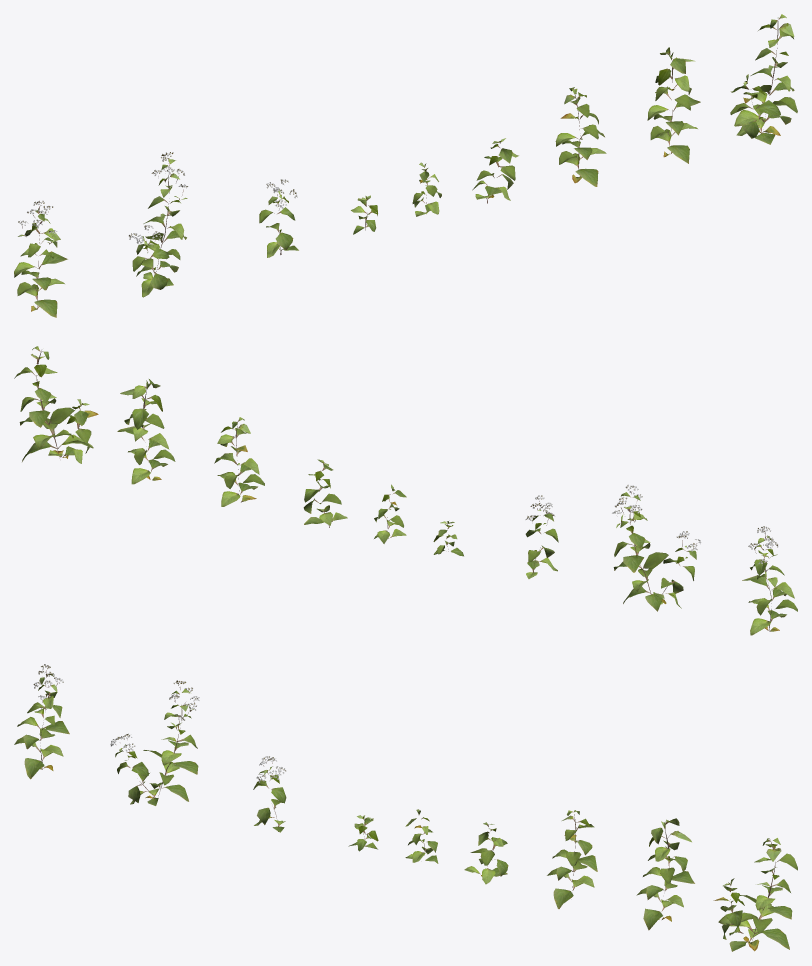
The model's file is shrub_01.glb.
3 renders of one model, top to bottom at view 1: azimuth 30°, elevation 25°; view 2: azimuth 150°, elevation 25°; view 3: azimuth 330°, elevation 25°, orthographic. The views are drawn at different scales.
Parts seen in each view (by area): view 1: shrub_01_a; view 2: shrub_01_a; view 3: shrub_01_a.
Boxes of the visible parts, <box> form: shrub_01_a: <box>14,14,797,317</box>; shrub_01_a: <box>14,346,797,635</box>; shrub_01_a: <box>14,664,797,951</box>.
Bounding box in the file's own units: 2.59 × 0.3949 × 0.2178.
Materials: 1 (1 with a texture image).
